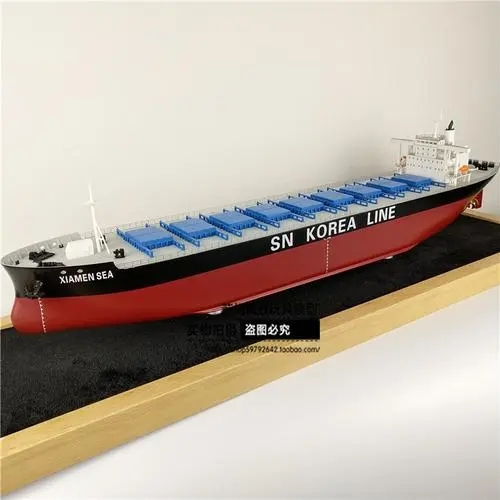Cargoship: (1, 115, 495, 334)
